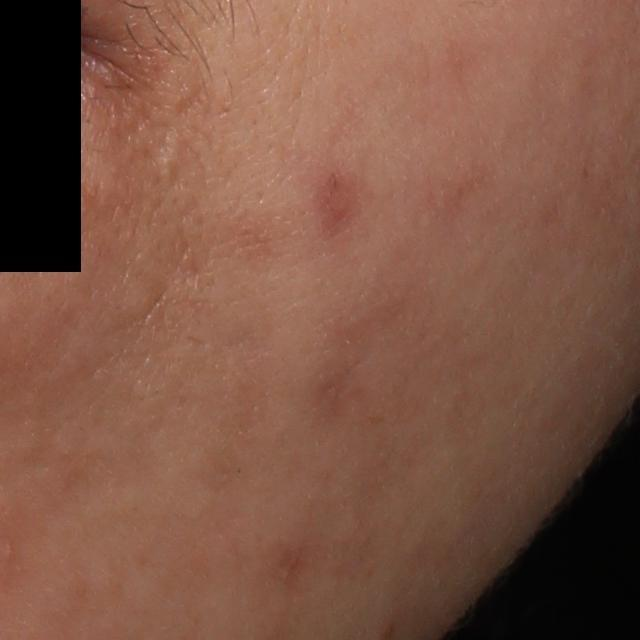hypertrophic_scar: (156, 128, 190, 188)
